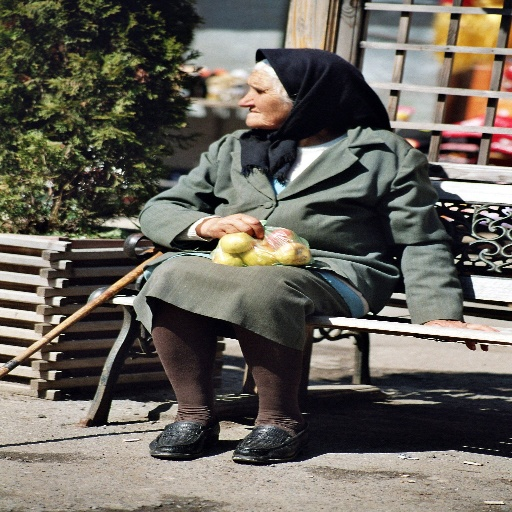hand: (423, 318, 497, 351), (194, 207, 259, 241)
